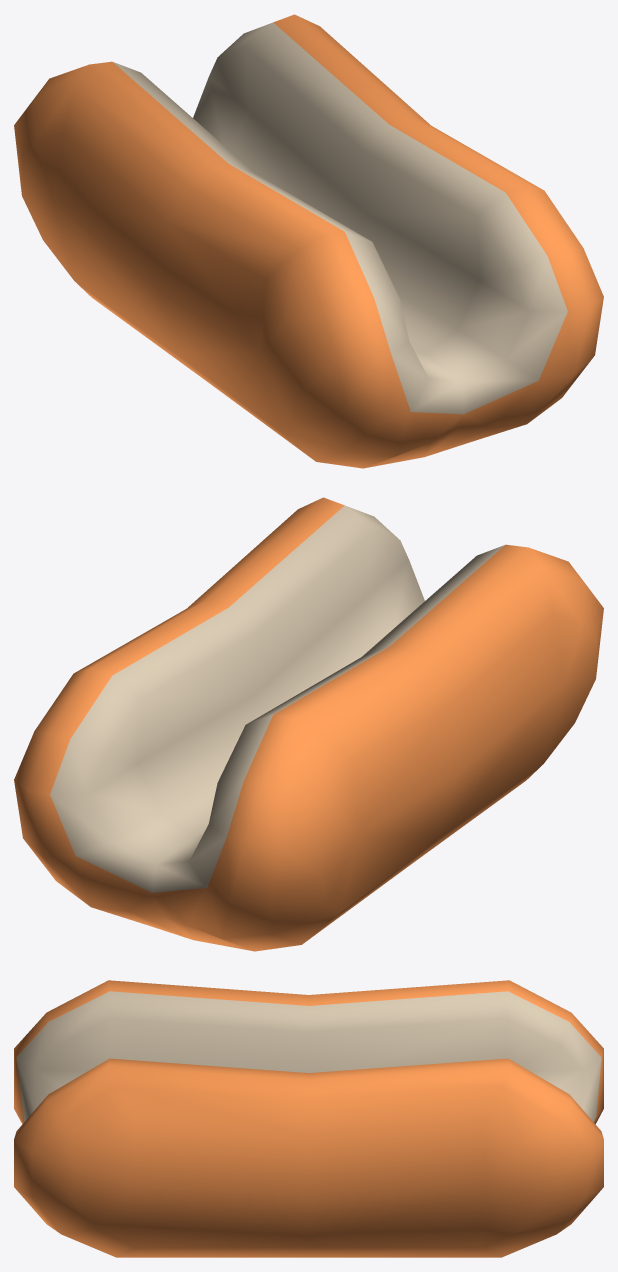
Rendered from Stock_HotdogBun_geo.fbx.
3 renders of one model, top to bottom at view 1: azimuth 30°, elevation 25°; view 2: azimuth 150°, elevation 25°; view 3: azimuth 270°, elevation 25°, orthographic. The views are drawn at different scales.
Parts seen in each view (by area): view 1: Stock_HotdogBun_geo; view 2: Stock_HotdogBun_geo; view 3: Stock_HotdogBun_geo.
Part boxes in pixels (x1=…): Stock_HotdogBun_geo: x1=14, y1=14, x2=603, y2=468; Stock_HotdogBun_geo: x1=14, y1=497, x2=603, y2=951; Stock_HotdogBun_geo: x1=14, y1=980, x2=603, y2=1257.
Bounding box in the file's own units: 0.3823 × 0.7482 × 0.2967.
